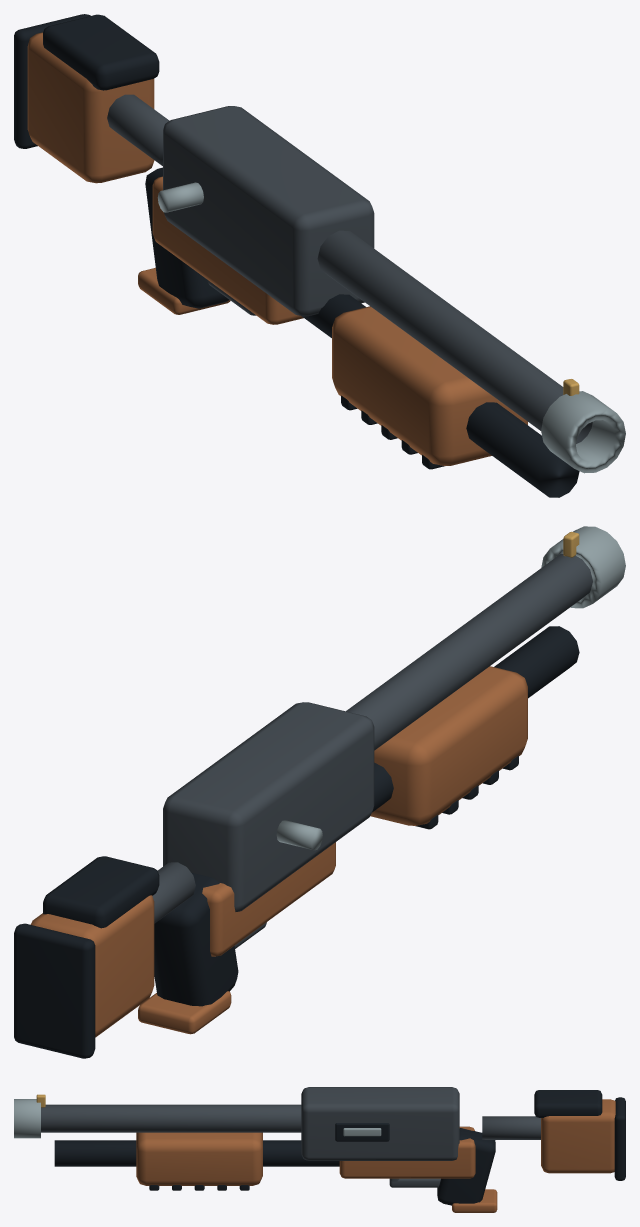
File: benelli_m4.glb
The picture shows the model from 3 angles, top to bottom: view 1: azimuth 30°, elevation 25°; view 2: azimuth 150°, elevation 25°; view 3: azimuth 270°, elevation 25°; orthographic projection. The views are drawn at different scales.
Visible parts, largest first — view 1: benelli_m4_Cerakote graphite, benelli_m4_benelli_m4 painted furniture, benelli_m4_Recesses and rubber, benelli_m4_Machined edges; view 2: benelli_m4_Cerakote graphite, benelli_m4_benelli_m4 painted furniture, benelli_m4_Recesses and rubber, benelli_m4_Machined edges; view 3: benelli_m4_Cerakote graphite, benelli_m4_benelli_m4 painted furniture, benelli_m4_Recesses and rubber, benelli_m4_Machined edges.
Part boxes in pixels (x1,y1,x2,y2): benelli_m4_Cerakote graphite: (107, 94, 592, 443); benelli_m4_benelli_m4 painted furniture: (27, 32, 527, 465); benelli_m4_Recesses and rubber: (14, 14, 579, 497); benelli_m4_Machined edges: (157, 182, 625, 473); benelli_m4_Cerakote graphite: (152, 554, 592, 948); benelli_m4_benelli_m4 painted furniture: (30, 666, 527, 1037); benelli_m4_Recesses and rubber: (14, 626, 579, 1058); benelli_m4_Machined edges: (276, 526, 625, 850); benelli_m4_Cerakote graphite: (41, 1087, 540, 1187); benelli_m4_benelli_m4 painted furniture: (136, 1099, 615, 1212); benelli_m4_Recesses and rubber: (54, 1090, 625, 1205); benelli_m4_Machined edges: (14, 1099, 381, 1138).
Bounding box in the file's own units: 0.1534 × 0.2299 × 1.15.
